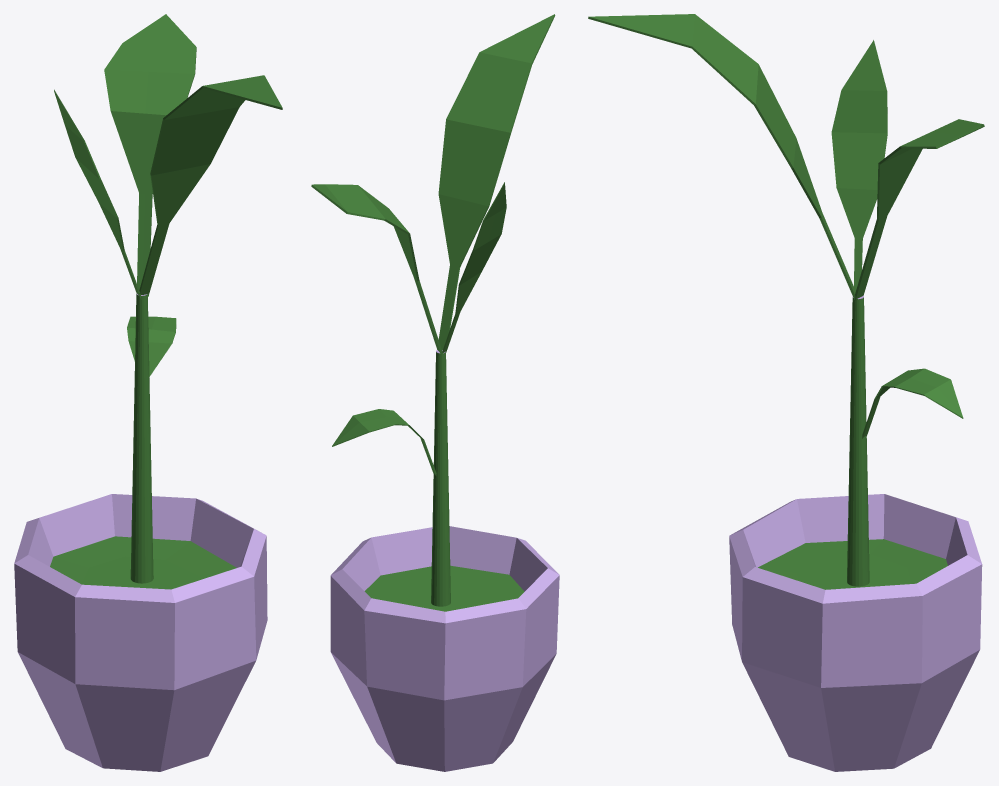
File: Flower_3.fbx
3 views of the same model, side by side, from view 1: azimuth 30°, elevation 25°; view 2: azimuth 150°, elevation 25°; view 3: azimuth 270°, elevation 25° (orthographic). The views are drawn at different scales.
Parts seen in each view (by area): view 1: Flower_3; view 2: Flower_3; view 3: Flower_3.
Boxes of the visible parts, <box> form: Flower_3: <box>14,14,282,771</box>; Flower_3: <box>311,14,559,771</box>; Flower_3: <box>588,14,984,771</box>.
Size of the model in its own units: 36.24 by 56.85 by 115.
